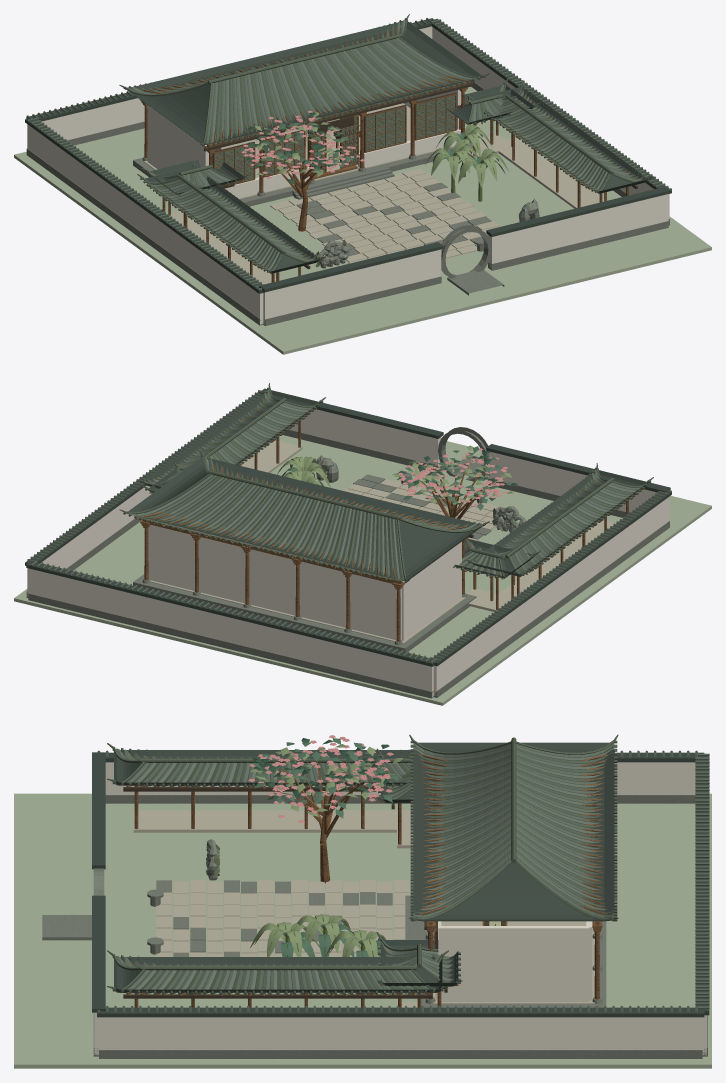
The model's file is public_models_places_yihongyuan.glb.
The picture shows the model from 3 angles, top to bottom: view 1: azimuth 30°, elevation 25°; view 2: azimuth 150°, elevation 25°; view 3: azimuth 270°, elevation 25°; orthographic projection. The views are drawn at different scales.
Parts seen in each view (by area): view 1: yihongyuan_earth, yihongyuan_roof, yihongyuan_plaster, yihongyuan_paving, yihongyuan_tiledark, yihongyuan_tile, yihongyuan_stone, yihongyuan_wood, yihongyuan_tilelight, yihongyuan_screen, yihongyuan_lightleaf, yihongyuan_darkwood (+3 smaller); view 2: yihongyuan_plaster, yihongyuan_roof, yihongyuan_earth, yihongyuan_tile, yihongyuan_stone, yihongyuan_tiledark, yihongyuan_tilelight, yihongyuan_wood, yihongyuan_paving, yihongyuan_lightleaf, yihongyuan_flower, yihongyuan_leaf (+1 smaller); view 3: yihongyuan_earth, yihongyuan_roof, yihongyuan_plaster, yihongyuan_tiledark, yihongyuan_paving, yihongyuan_tile, yihongyuan_stone, yihongyuan_tilelight, yihongyuan_wood, yihongyuan_lightleaf, yihongyuan_darkwood, yihongyuan_leaf (+2 smaller).
Boxes of the visible parts, box(x1,y1,x2,y2) form: yihongyuan_earth: box(14, 86, 711, 354); yihongyuan_roof: box(25, 18, 671, 293); yihongyuan_plaster: box(27, 26, 669, 324); yihongyuan_paving: box(143, 103, 604, 284); yihongyuan_tiledark: box(119, 14, 653, 273); yihongyuan_tile: box(26, 18, 671, 290); yihongyuan_stone: box(26, 80, 669, 326); yihongyuan_wood: box(140, 28, 639, 282); yihongyuan_tilelight: box(132, 20, 644, 269); yihongyuan_screen: box(215, 95, 455, 182); yihongyuan_lightleaf: box(254, 112, 509, 187); yihongyuan_darkwood: box(204, 83, 637, 269); yihongyuan_plaster: box(27, 409, 669, 696); yihongyuan_roof: box(25, 388, 671, 666); yihongyuan_earth: box(14, 435, 711, 705); yihongyuan_tile: box(27, 389, 671, 663); yihongyuan_stone: box(26, 427, 669, 698); yihongyuan_tiledark: box(119, 383, 653, 583); yihongyuan_tilelight: box(129, 393, 644, 579); yihongyuan_wood: box(136, 398, 643, 641); yihongyuan_paving: box(150, 440, 615, 643); yihongyuan_lightleaf: box(277, 445, 513, 504); yihongyuan_flower: box(398, 448, 507, 505); yihongyuan_leaf: box(282, 446, 512, 510); yihongyuan_earth: box(14, 793, 711, 1068); yihongyuan_roof: box(92, 742, 709, 1017); yihongyuan_plaster: box(94, 762, 706, 1055); yihongyuan_tiledark: box(107, 734, 618, 994); yihongyuan_paving: box(133, 810, 594, 1007); yihongyuan_tile: box(97, 742, 709, 1013); yihongyuan_stone: box(42, 795, 707, 1058); yihongyuan_tilelight: box(123, 746, 614, 993); yihongyuan_wood: box(126, 754, 614, 1007); yihongyuan_lightleaf: box(250, 744, 402, 956); yihongyuan_darkwood: box(123, 787, 505, 998); yihongyuan_leaf: box(252, 738, 398, 956).
Size of the model in its own units: 34 by 8.17 by 37.
Materials: 19 (2 with a texture image).
